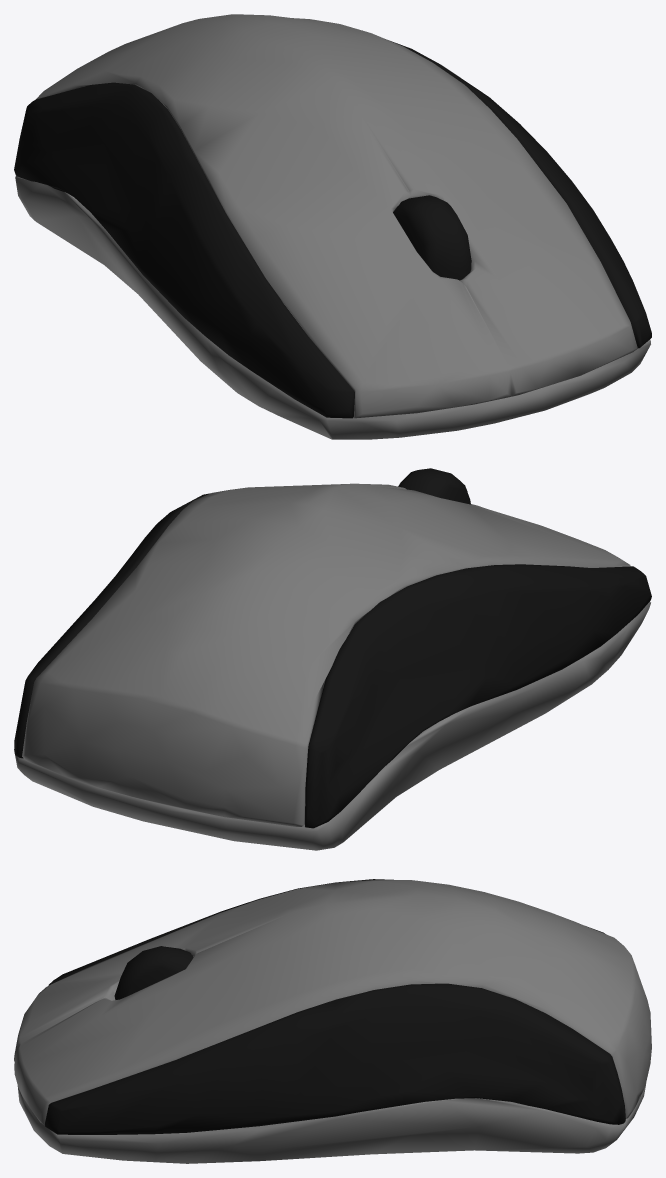
The model's file is Mouse.FBX.
The picture shows the model from 3 angles, top to bottom: view 1: azimuth 30°, elevation 25°; view 2: azimuth 150°, elevation 25°; view 3: azimuth 270°, elevation 25°; orthographic projection. The views are drawn at different scales.
Parts seen in each view (by area): view 1: Mouse; view 2: Mouse; view 3: Mouse.
Boxes of the visible parts, <box> form: Mouse: <box>14,14,651,439</box>; Mouse: <box>14,468,651,850</box>; Mouse: <box>14,879,651,1163</box>.
Bounding box in the file's own units: 2.45 × 4.07 × 1.32.
1 material, 1 textured.
